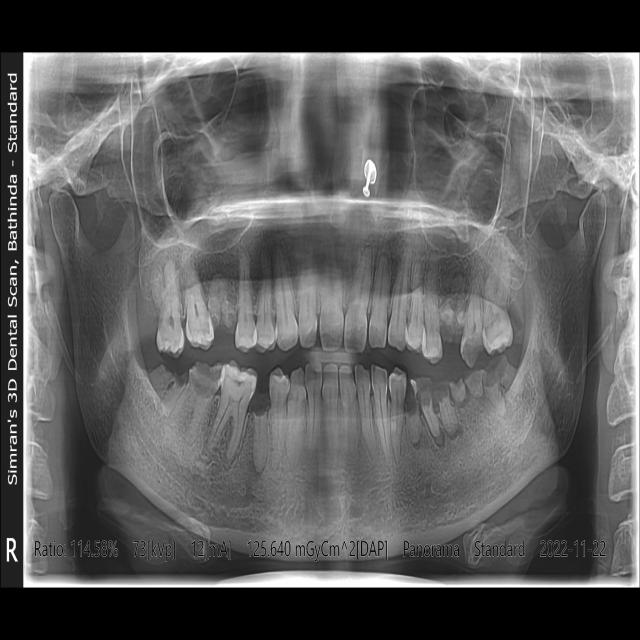Caries: (190, 362, 222, 399)
Mandibular Canal: (88, 324, 252, 510), (428, 315, 574, 504)
Periapical lesion: (221, 424, 242, 470), (202, 431, 220, 464), (375, 252, 391, 283), (407, 425, 425, 451), (444, 419, 464, 440), (433, 427, 445, 447), (453, 270, 465, 280)
Root Piece: (440, 275, 465, 343), (250, 392, 270, 473), (157, 369, 188, 418), (480, 364, 507, 418), (417, 377, 440, 437), (435, 383, 459, 438), (491, 355, 523, 396), (206, 273, 229, 325), (405, 379, 421, 446), (149, 364, 175, 398), (465, 371, 486, 398), (439, 299, 455, 331), (221, 298, 236, 328), (450, 379, 466, 406), (208, 296, 221, 327)
